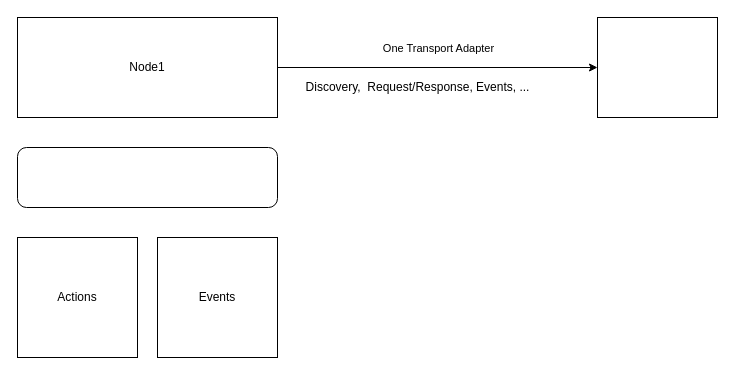
This 735x375 diagram has some shape labels left out. The centre of each missing label's shape, as x and y in pixels:
Node2: (x=657, y=67)
Service1: (x=147, y=177)
